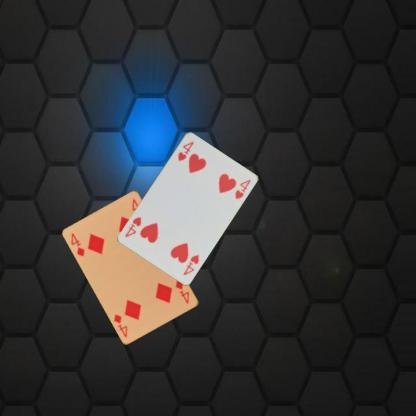4d: (172, 277, 190, 305), (69, 230, 86, 258)
4h: (180, 251, 200, 276), (175, 139, 195, 162)
